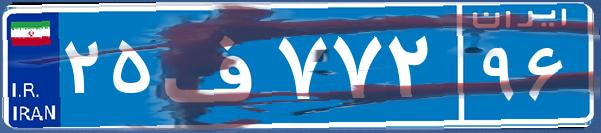2: (385, 28, 445, 110), (57, 26, 110, 107)
5: (110, 28, 158, 105)
6: (525, 38, 570, 115)
7: (273, 28, 330, 110), (330, 28, 385, 110)
9: (475, 38, 525, 113)
ف: (158, 15, 273, 115)
